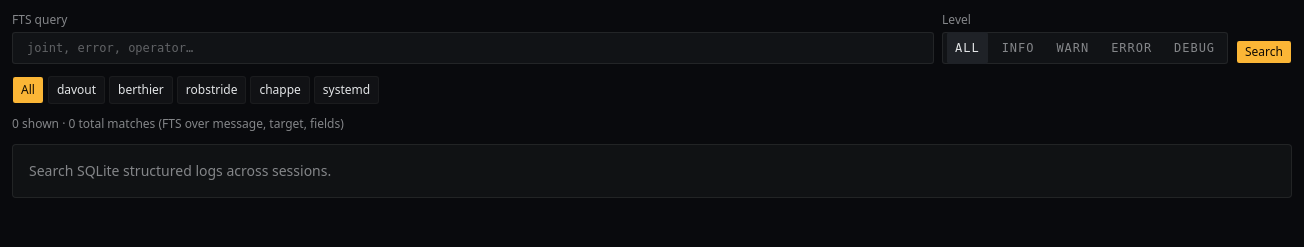
Test case: LogsArchiveSearch panel filters › surfaces HTTP failure instead of SQLite-empty messaging
Click the button "Search": (1264,52) [1236,40,1292,64]
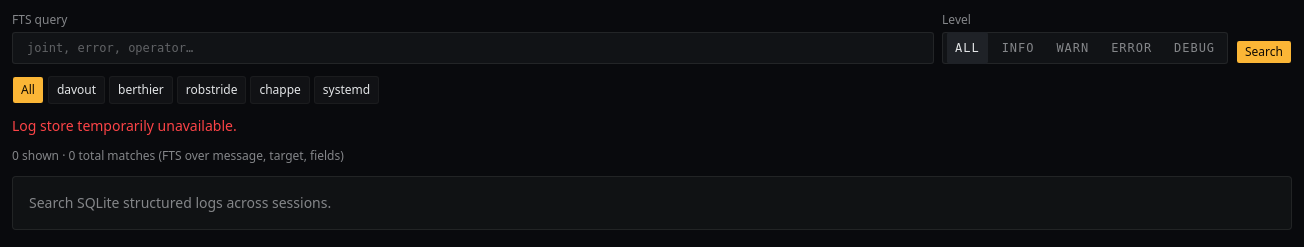
Now the text "Log store temporarily unavailable." is shown, box [12,116,237,135]
